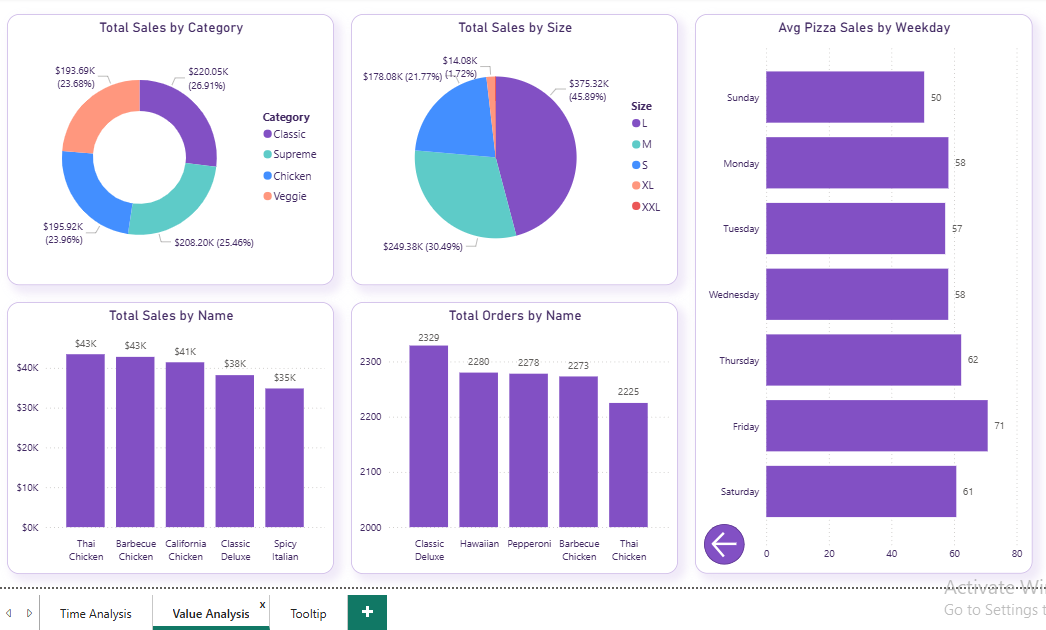

What the dashboard file says about the page in this screenshot:
{"tool":"powerbi","page":{"name":"Value Analysis","canvas":[1280,720],"ordinal":1},"visuals":[{"type":"donutChart","title":"Total Sales by Category","fields":{"Category":["Pizza_types.category"],"Y":["orders.total_sales"]},"box":[9.6,20.6,399.1,331],"z":0},{"type":"pieChart","title":"Total Sales by Size","fields":{"Category":["Pizzas.size"],"Y":["orders.total_sales"]},"box":[429.4,20.6,399.1,331],"z":1000},{"type":"clusteredColumnChart","title":"Total Sales by Name","fields":{"Y":["orders.total_sales"],"Category":["Pizza_types.name"]},"box":[9.6,371.6,399.1,331.7],"z":2000},{"type":"columnChart","title":"Total Orders by Name","fields":{"Y":["orders.total_orders"],"Category":["Pizza_types.name"]},"box":[429.4,371.6,399.1,331.7],"z":3000},{"type":"barChart","title":"Avg Pizza Sales by Weekday","fields":{"Y":["orders.Avg Pizza Sold by Weekday"],"Category":["orders.Weekday"]},"box":[849.2,20.6,411.5,682.7],"z":4000},{"type":"shape","box":[860.2,642.8,49.5,49.5],"z":5000},{"type":"actionButton","box":[865.4,648,40.8,40.8],"z":6000}]}

Visuals, with their boxes on the page's 1280x720 design canvas (x1, y1, x2, y2). These are canvas units, not pixel positions in the 1046x630 screenshot, which may show the page scaled, cropped or inside an application window:
"Total Sales by Category" donutChart: [10,21,409,352]
"Total Sales by Size" pieChart: [429,21,828,352]
"Total Sales by Name" clusteredColumnChart: [10,372,409,703]
"Total Orders by Name" columnChart: [429,372,828,703]
"Avg Pizza Sales by Weekday" barChart: [849,21,1261,703]
shape: [860,643,910,692]
actionButton: [865,648,906,689]
